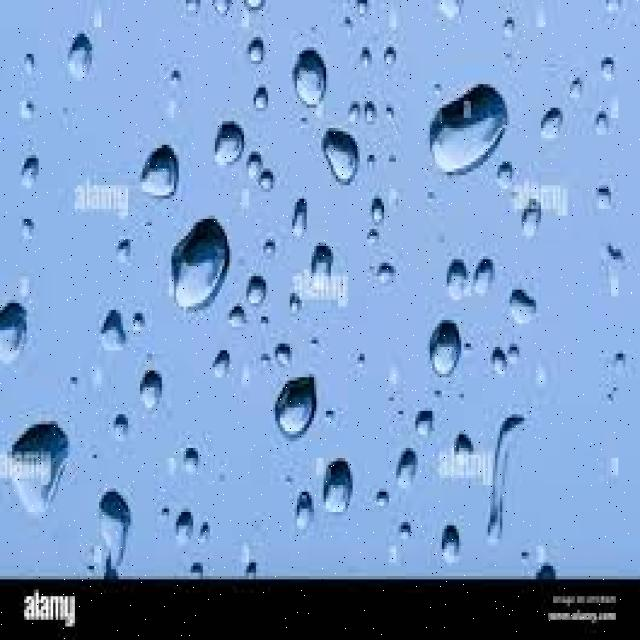raindrop: (418, 71, 520, 184), (162, 204, 245, 331), (482, 408, 536, 554), (258, 358, 338, 451), (86, 486, 146, 578), (288, 42, 345, 126), (310, 119, 372, 194), (134, 135, 192, 206), (310, 446, 370, 514), (62, 15, 106, 100), (0, 292, 43, 376), (421, 309, 465, 390), (86, 296, 135, 366), (208, 108, 253, 184), (497, 280, 541, 339), (132, 360, 172, 423), (466, 243, 506, 304), (420, 522, 468, 570), (379, 255, 412, 311), (446, 248, 474, 311), (170, 504, 202, 556)
